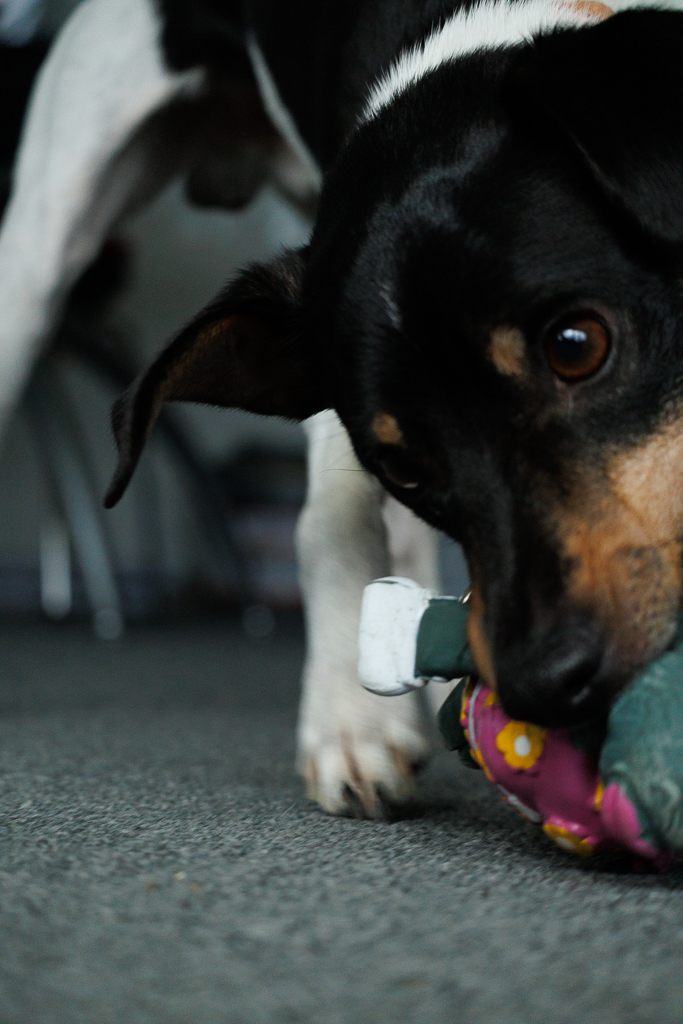Dog: (0, 0, 683, 915)
Humanoid: (329, 555, 683, 898)
